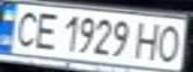1: (57, 11, 81, 53)
2: (93, 15, 115, 56)
9: (109, 17, 136, 59), (75, 13, 96, 55)
C: (6, 7, 42, 48)
E: (30, 9, 63, 51)
H: (133, 19, 163, 61)
O: (154, 21, 187, 63)
